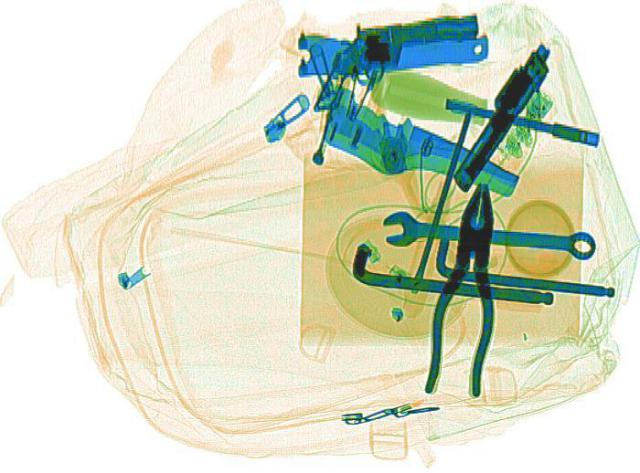Gun: (308, 12, 486, 165), (434, 38, 564, 191)
Pliers: (419, 181, 515, 398)
Wrench: (377, 208, 599, 261)
